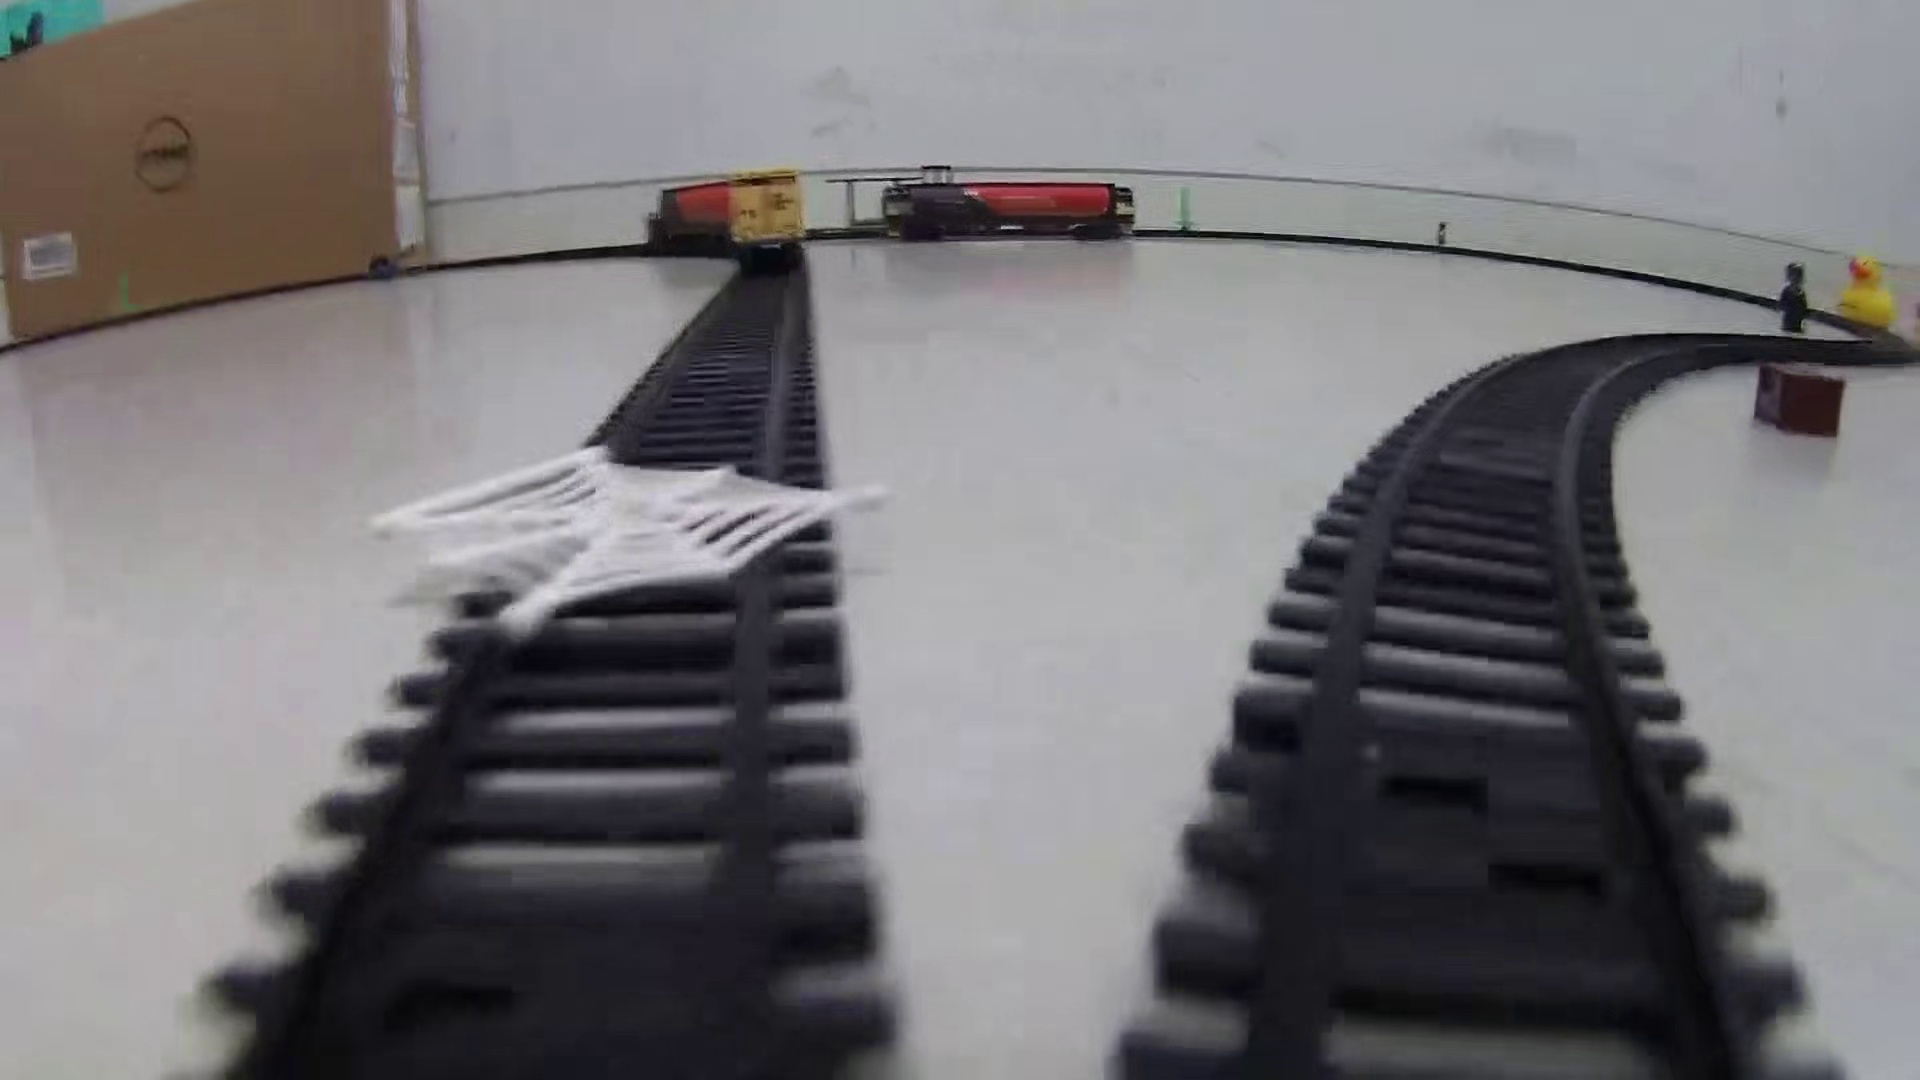box: (1746, 358, 1851, 445)
people: (1777, 258, 1813, 336), (1431, 218, 1449, 250)
web: (370, 442, 892, 648)
